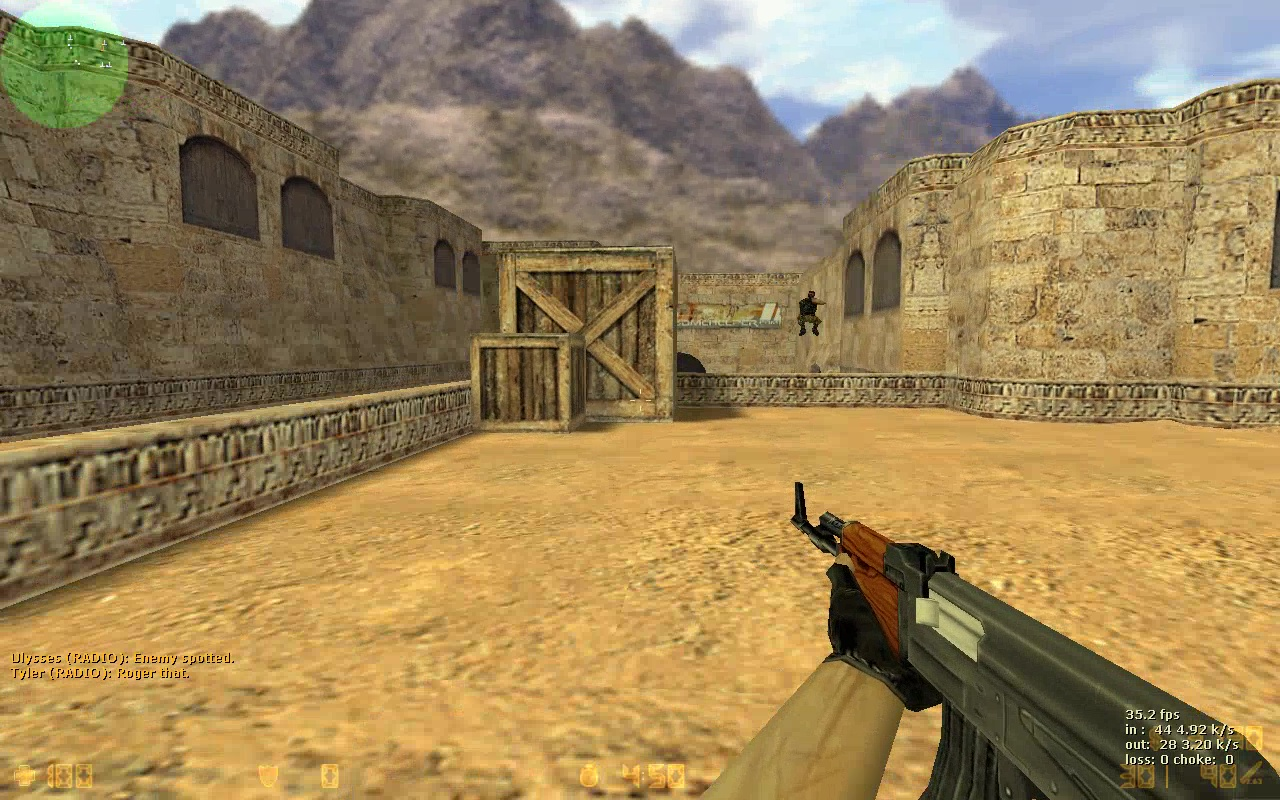terr1: (795, 290, 827, 336)
